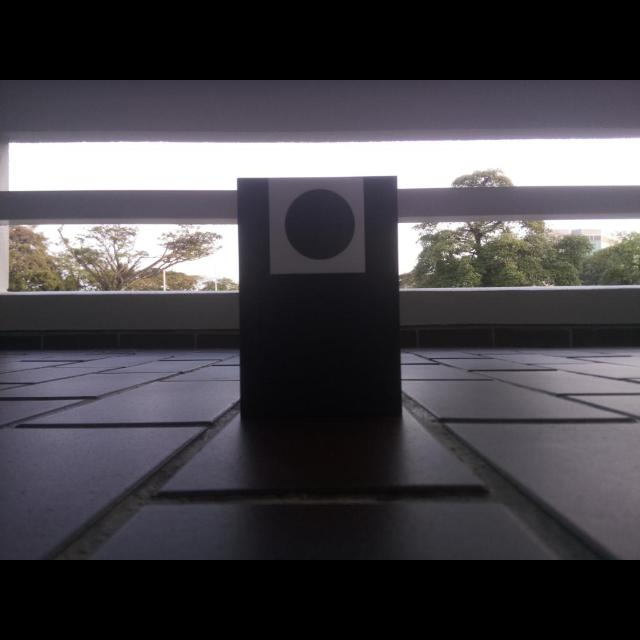CIRCLE: (283, 187, 357, 262)
